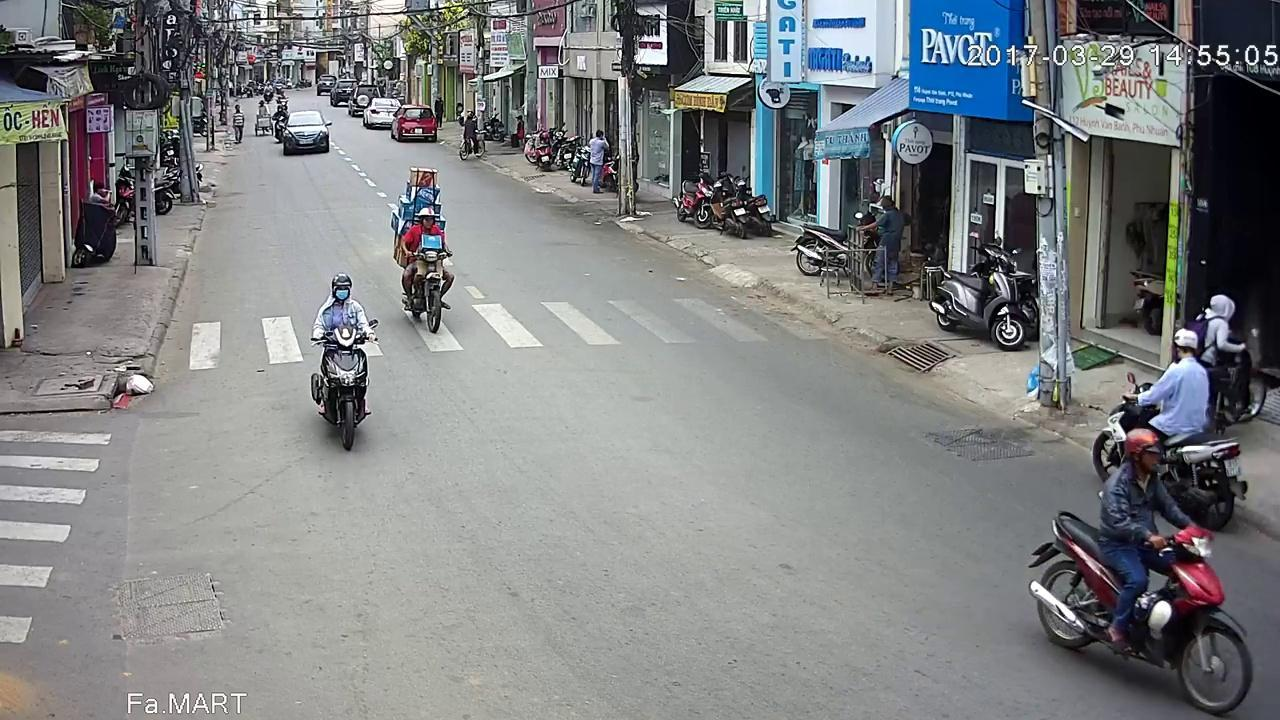xe dap: (458, 111, 485, 160)
xe hoi: (280, 109, 330, 154), (392, 105, 438, 142)
xe may: (1023, 397, 1250, 720), (1089, 323, 1247, 524), (307, 270, 377, 447), (403, 204, 457, 330)
